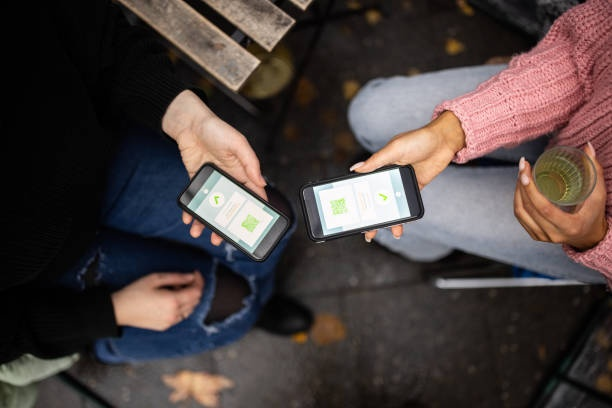phone: (177, 163, 293, 264), (300, 164, 430, 241)
